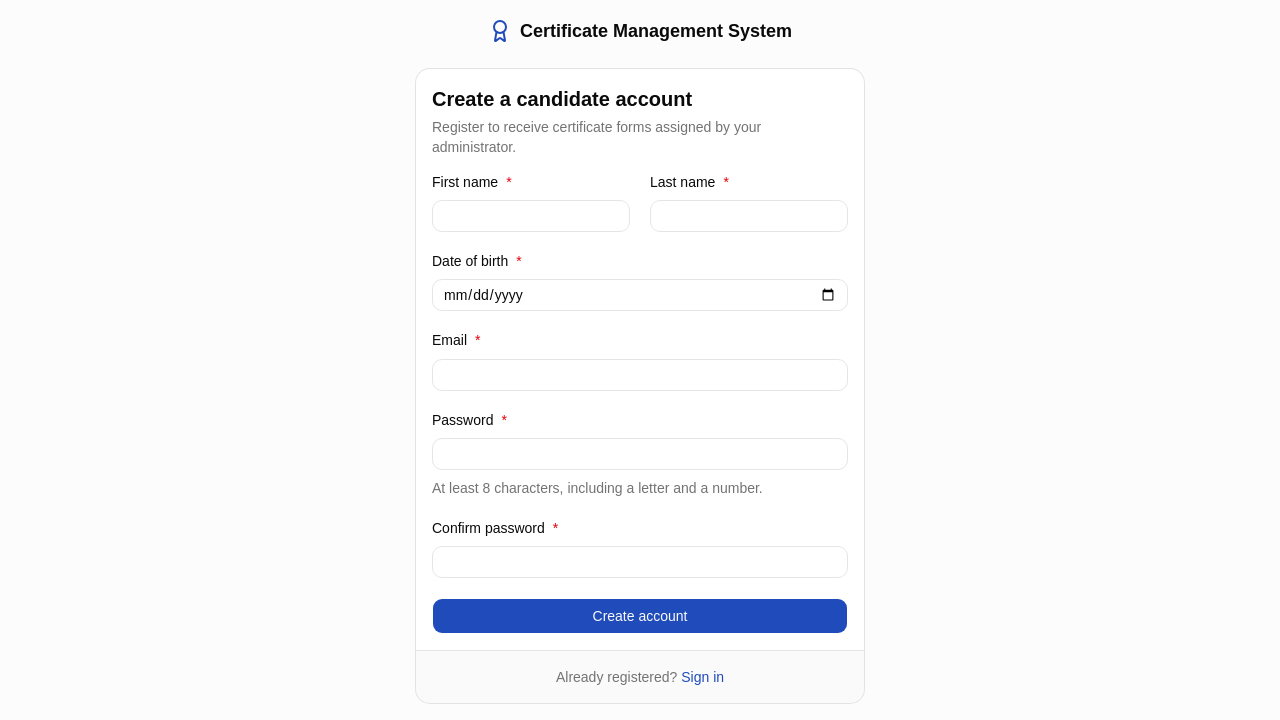
Test: registration page › registers a Candidate and lands on the Candidate dashboard
Type "Jane" into the field labelled "First name *" at (531, 216), box [432,200,630,232]
Type "Doe" into the field labelled "Last name *" at (749, 216), box [650,200,848,232]
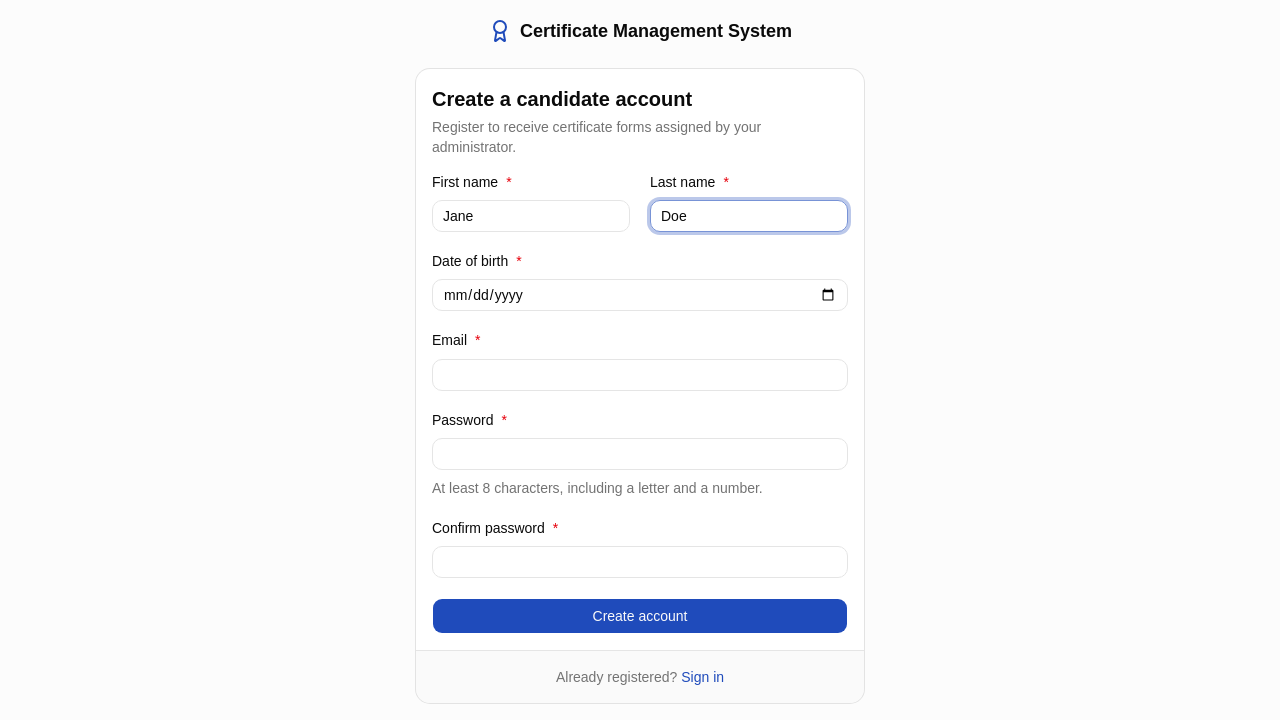
Type "1990-05-17" into the date field labelled "Date of birth *" at (640, 295), box [432,279,848,311]
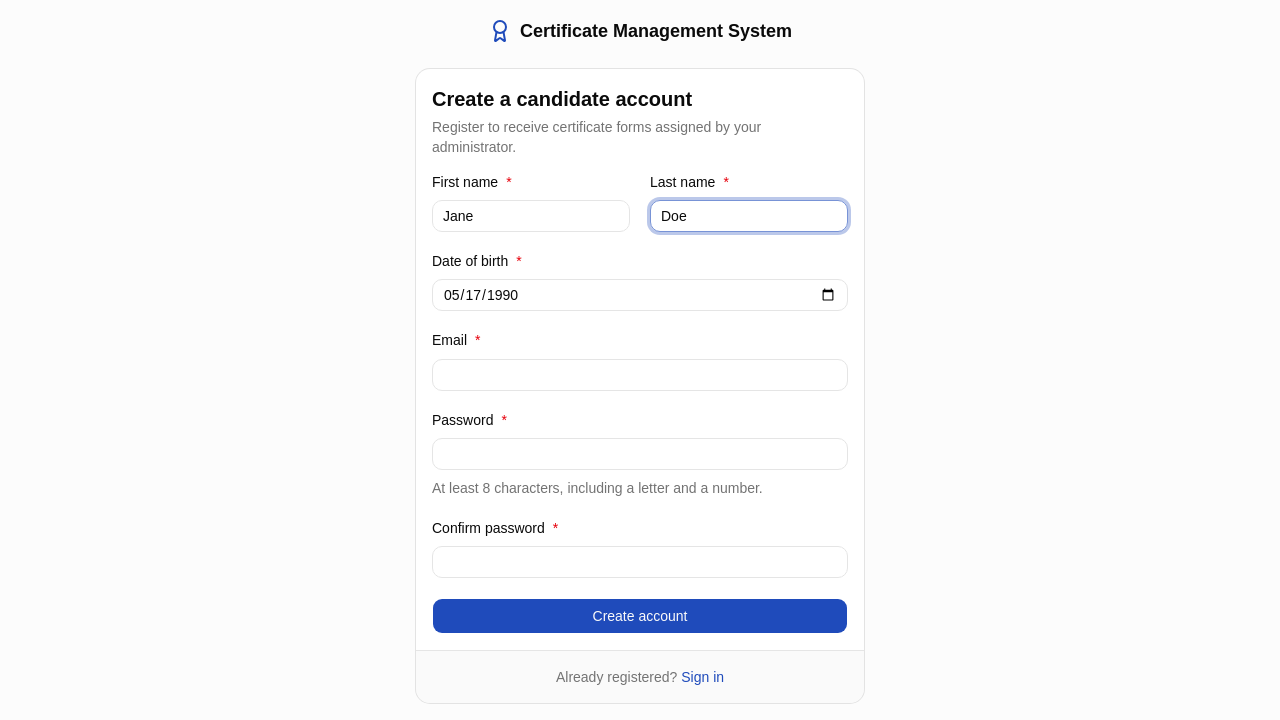
Type "jane.doe@example.com" into the field labelled "Email *" at (640, 375), box [432,359,848,391]
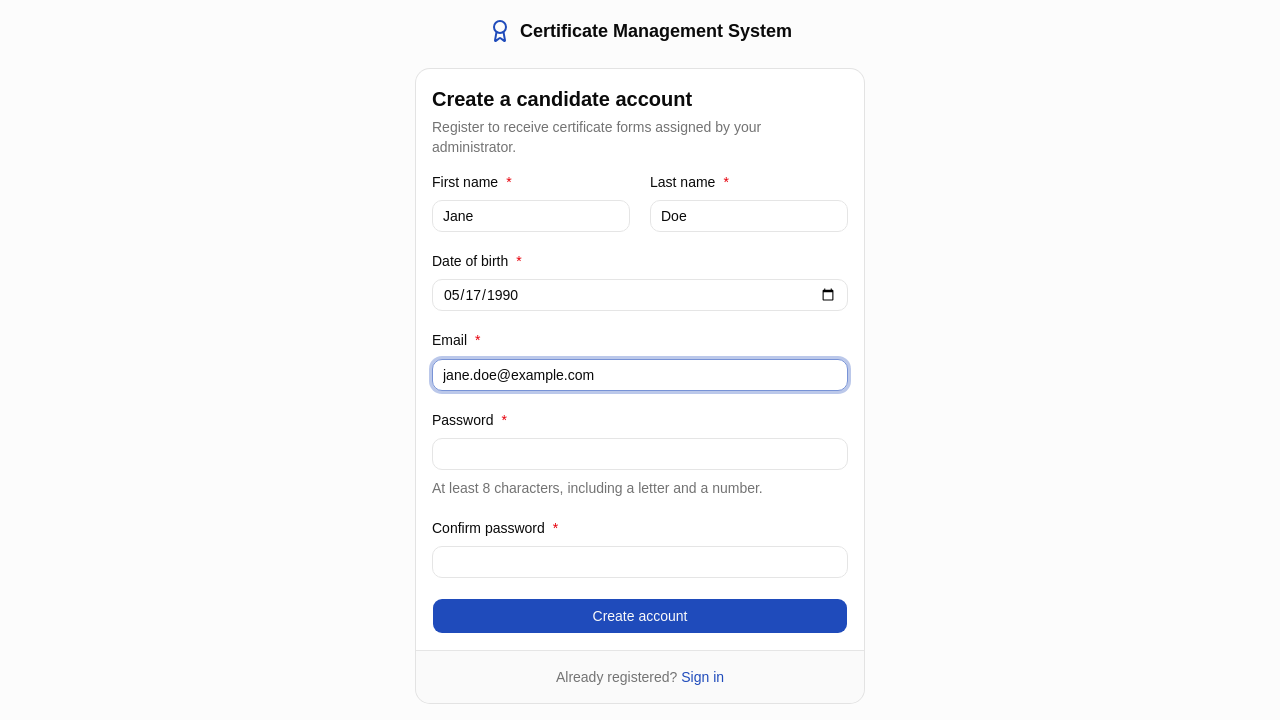
Type "Secret123" into the password field labelled "Password *" at (640, 454), box [432,438,848,470]
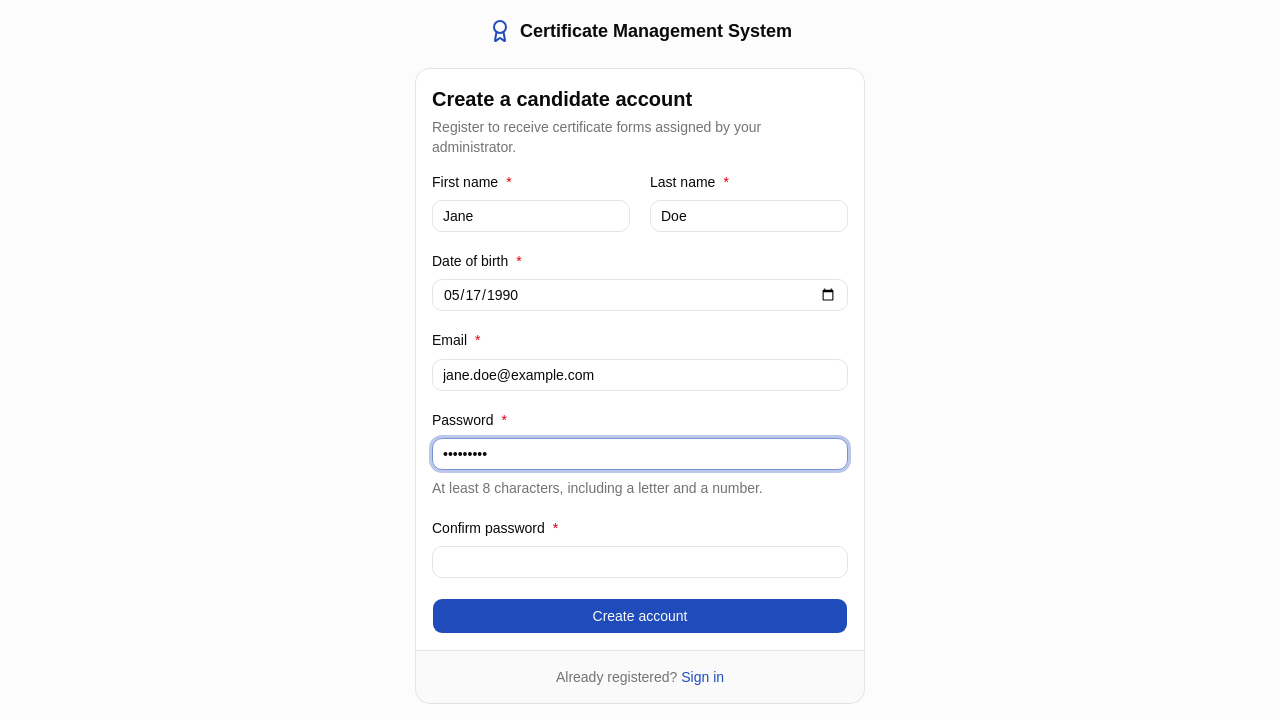
Type "Secret123" into the password field labelled "Confirm password *" at (640, 562), box [432,546,848,578]
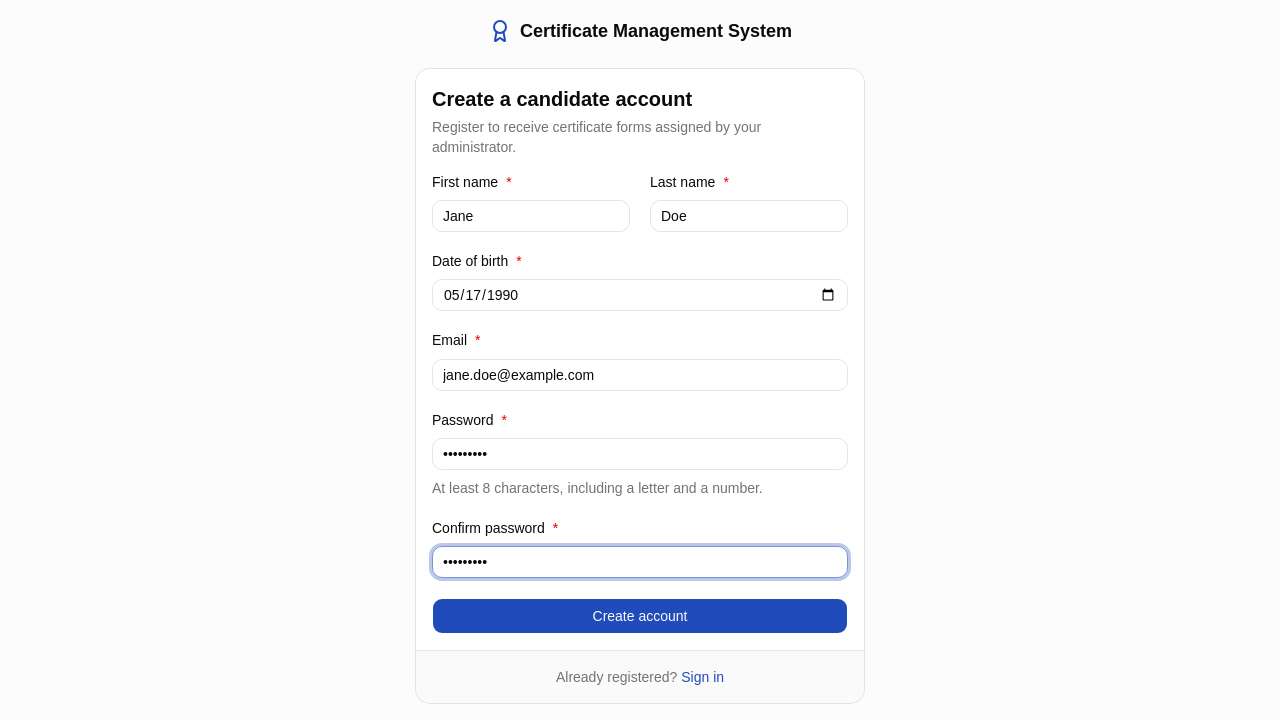
Click the button "Create account" at (640, 616), box [432,598,848,634]
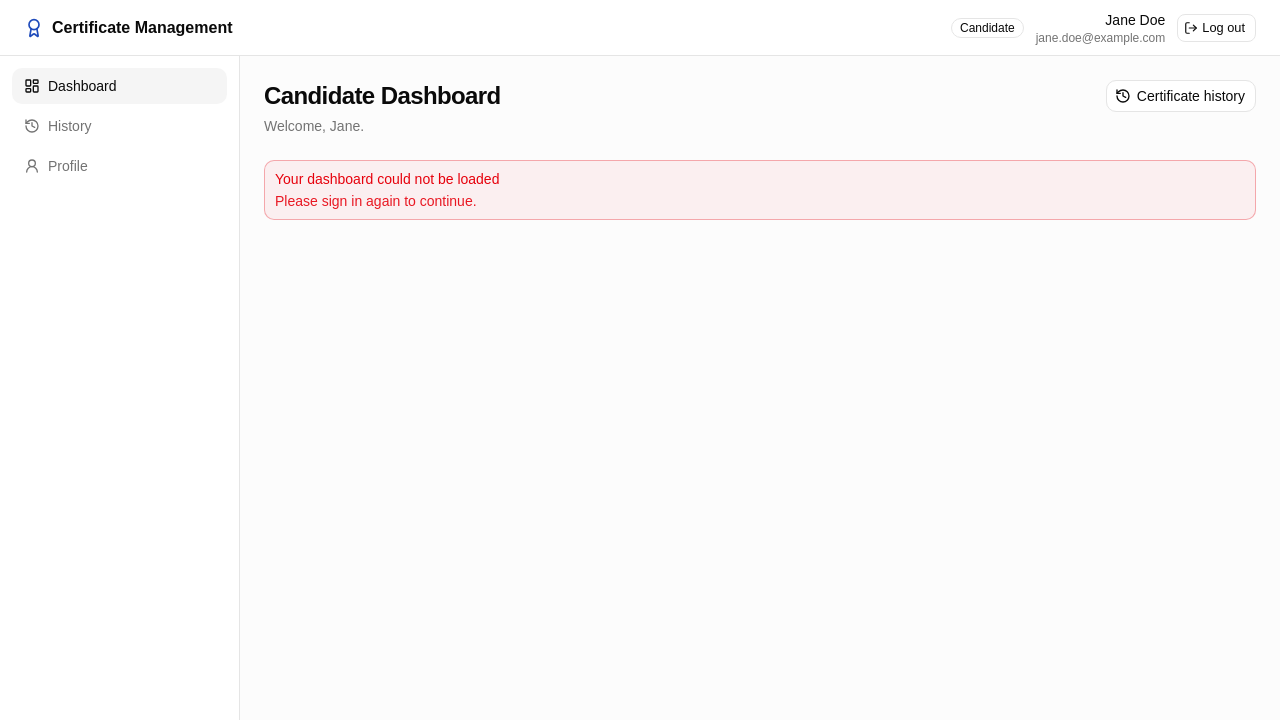
Check: the heading "Candidate Dashboard" is shown, box [264,80,501,112]
Check: the text "Candidate" is shown, box [951,18,1024,38]
